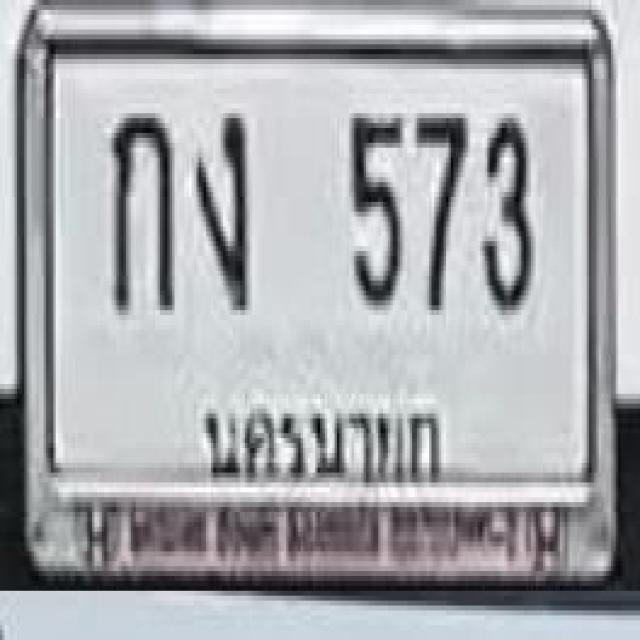license_plate: (21, 4, 621, 586)
